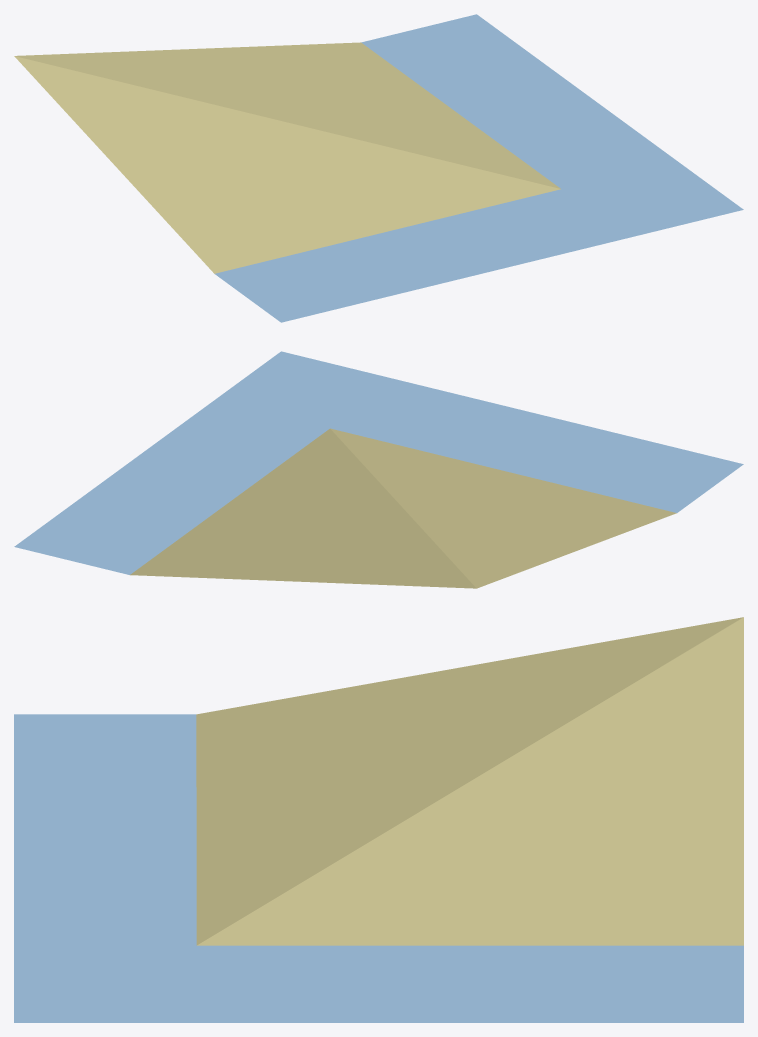
The model's file is beach_tile_1x1_009.glb.
3 views of the same model, one above another, from view 1: azimuth 30°, elevation 25°; view 2: azimuth 150°, elevation 25°; view 3: azimuth 270°, elevation 25° (orthographic). The views are drawn at different scales.
Parts seen in each view (by area): view 1: beach_tile_1x1_009; view 2: beach_tile_1x1_009; view 3: beach_tile_1x1_009.
Boxes of the visible parts, x1,y1,x2,y2 form: beach_tile_1x1_009: (14,14,743,322); beach_tile_1x1_009: (14,351,743,588); beach_tile_1x1_009: (14,617,743,1022).
Size of the model in its own units: 8 by 1.18 by 8.
Materials: 1 (1 with a texture image).
